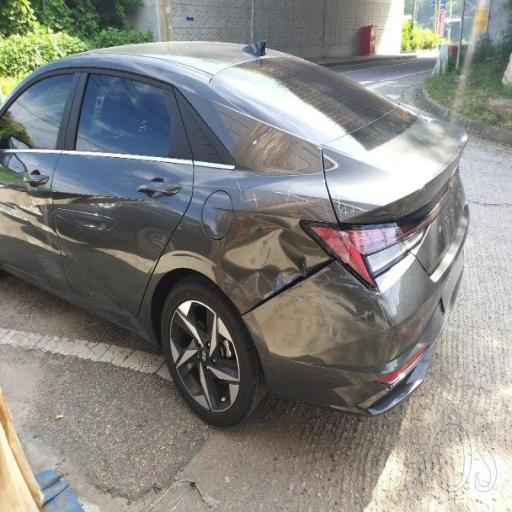dent: (196, 180, 398, 328)
scratch: (49, 170, 161, 269)
